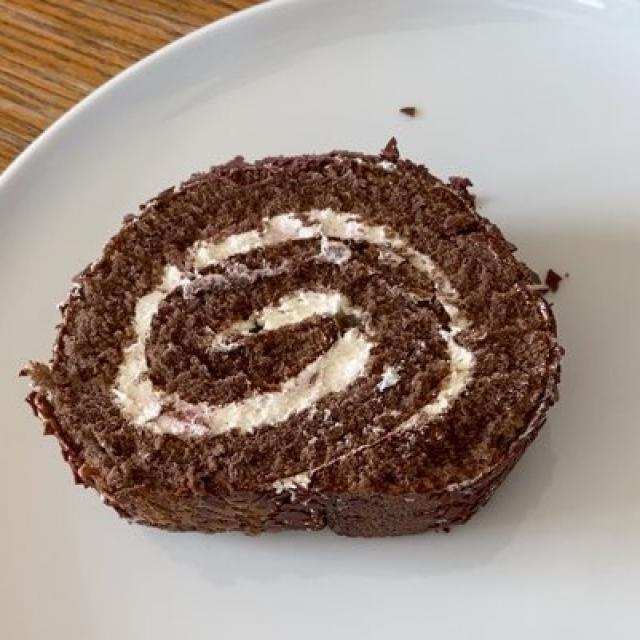cake: (41, 153, 559, 526)
